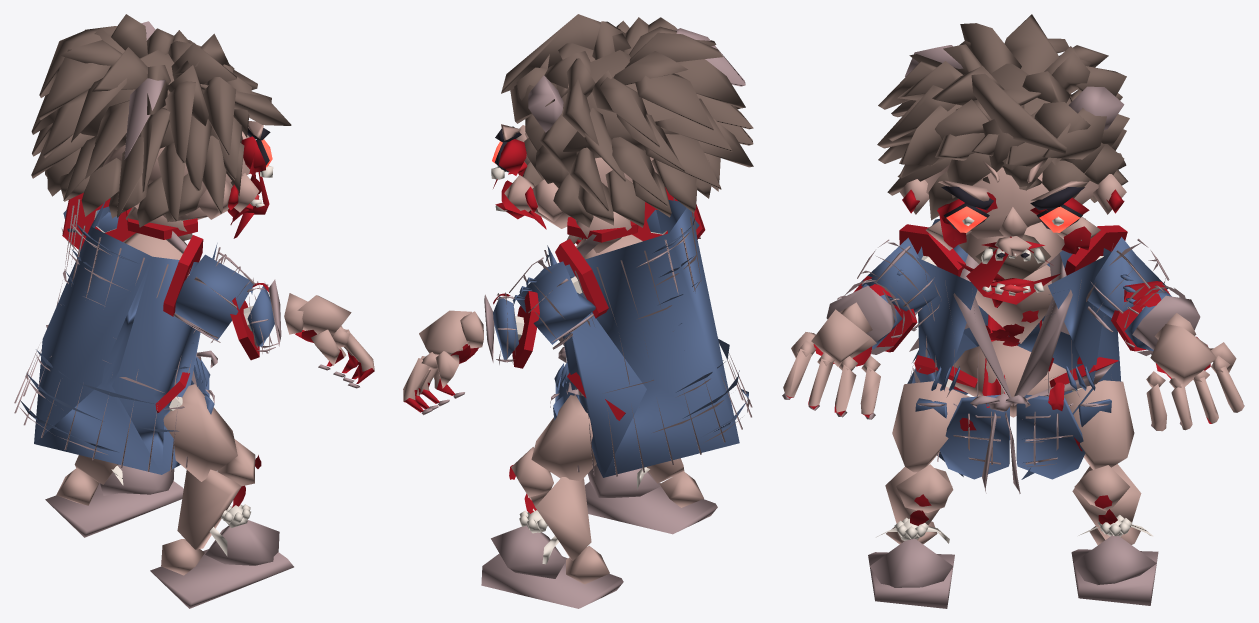
The picture shows the model from 3 angles, left to right: view 1: azimuth 30°, elevation 25°; view 2: azimuth 150°, elevation 25°; view 3: azimuth 270°, elevation 25°; orthographic projection. The views are drawn at different scales.
Parts seen in each view (by area): view 1: head, torso, footR, footL, shinR, armR, legR, handR, foreArmR, stump_armL, stump_armR, stump_head (+3 smaller); view 2: head, torso, footL, footR, shinL, handL, armL, legL, foreArmL, stump_armL, stump_foreArmL, stump_head (+2 smaller); view 3: head, torso, handL, handR, footR, footL, legR, legL, armL, armR, shinL, shinR (+8 smaller).
Part boxes in pixels (left/top/right/bottom): head: left=31, top=14, right=291, bottom=240; torso: left=14, top=199, right=223, bottom=474; footR: left=150, top=504, right=293, bottom=608; footL: left=45, top=464, right=183, bottom=537; shinR: left=177, top=439, right=261, bottom=549; armR: left=173, top=252, right=255, bottom=342; legR: left=163, top=384, right=237, bottom=481; handR: left=295, top=295, right=374, bottom=388; foreArmR: left=247, top=279, right=307, bottom=353; stump_armL: left=62, top=192, right=135, bottom=249; stump_armR: left=163, top=235, right=203, bottom=316; stump_head: left=126, top=207, right=197, bottom=239; head: left=491, top=14, right=753, bottom=253; torso: left=541, top=198, right=752, bottom=477; footL: left=481, top=508, right=623, bottom=608; footR: left=585, top=464, right=717, bottom=534; shinL: left=509, top=447, right=591, bottom=560; handL: left=403, top=310, right=479, bottom=415; armL: left=509, top=257, right=595, bottom=349; legL: left=531, top=395, right=596, bottom=481; foreArmL: left=460, top=292, right=518, bottom=364; stump_armL: left=555, top=239, right=608, bottom=318; stump_foreArmL: left=512, top=291, right=539, bottom=368; stump_head: left=567, top=217, right=638, bottom=242; head: left=877, top=14, right=1129, bottom=307; torso: left=907, top=218, right=1121, bottom=493; handL: left=1146, top=324, right=1244, bottom=431; handR: left=782, top=309, right=880, bottom=419; footR: left=868, top=517, right=954, bottom=608; footL: left=1071, top=515, right=1158, bottom=605; legR: left=892, top=381, right=970, bottom=472; legL: left=1064, top=380, right=1134, bottom=469; armL: left=1086, top=237, right=1169, bottom=332; armR: left=857, top=237, right=941, bottom=331; shinL: left=1072, top=464, right=1141, bottom=539; shinR: left=885, top=464, right=953, bottom=540.
Bounding box in the file's own units: 0.8855 × 1.8 × 1.41.
